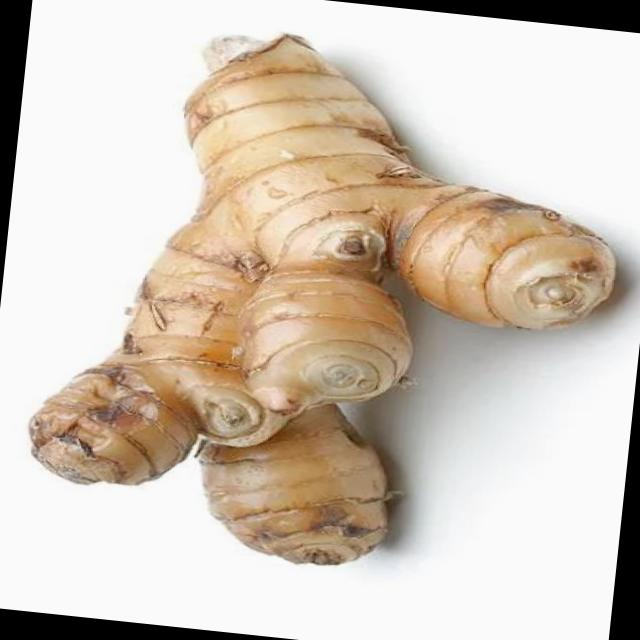ginger-root: (5, 0, 640, 597)
